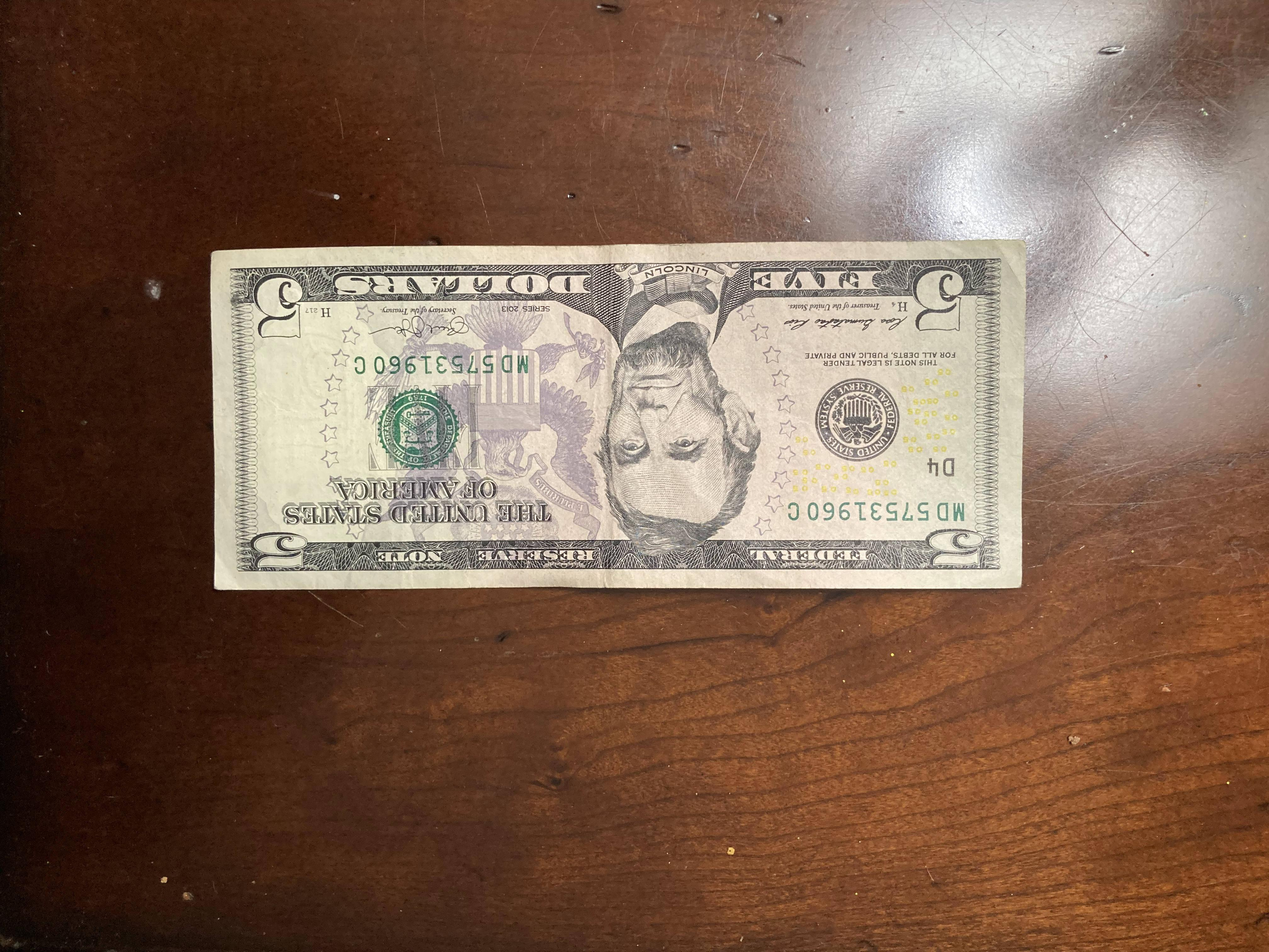five-front: (209, 244, 1026, 589)
